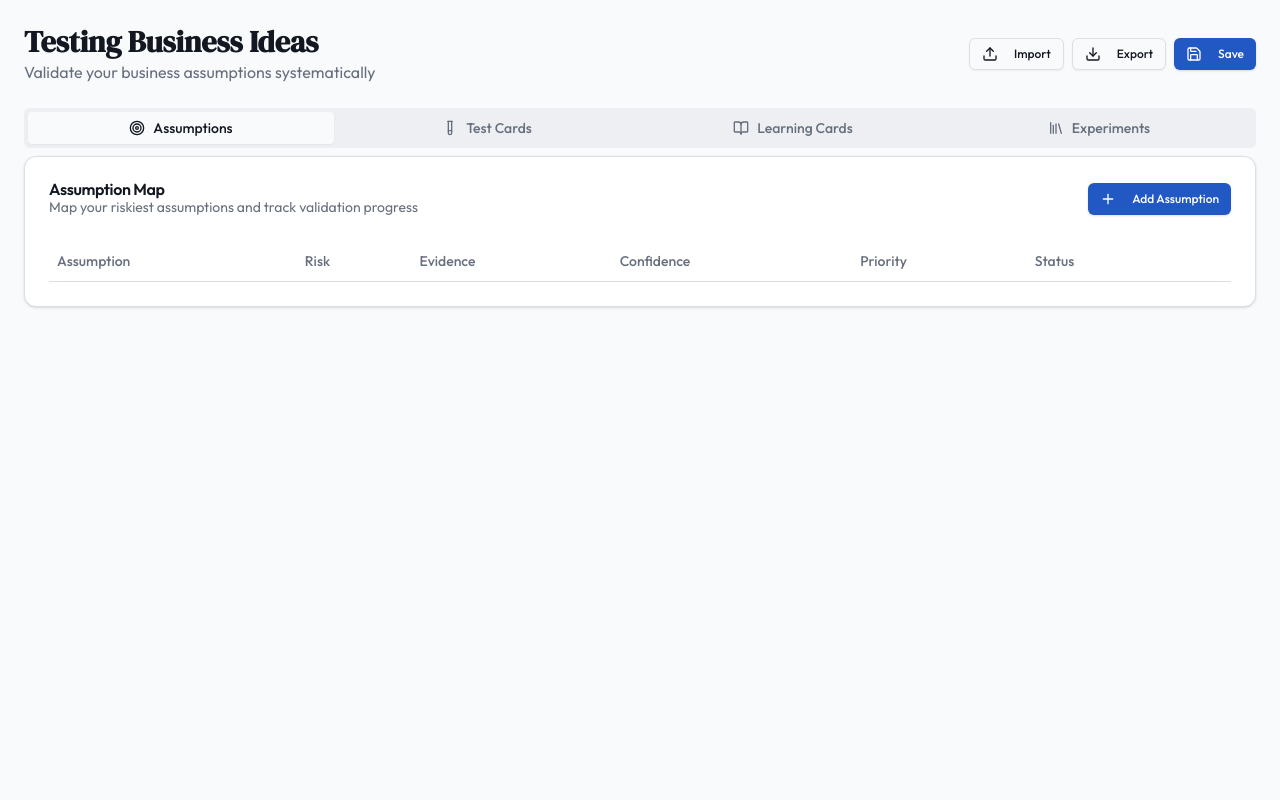
Scenario: TestingBusinessIdeasCanvas › Test Cards Management › adds new test card
What coordinates should you click on to do the following:
click the tab "Test Cards"
I would click on:
 (487, 128)
Its box is [334,112,640,144].
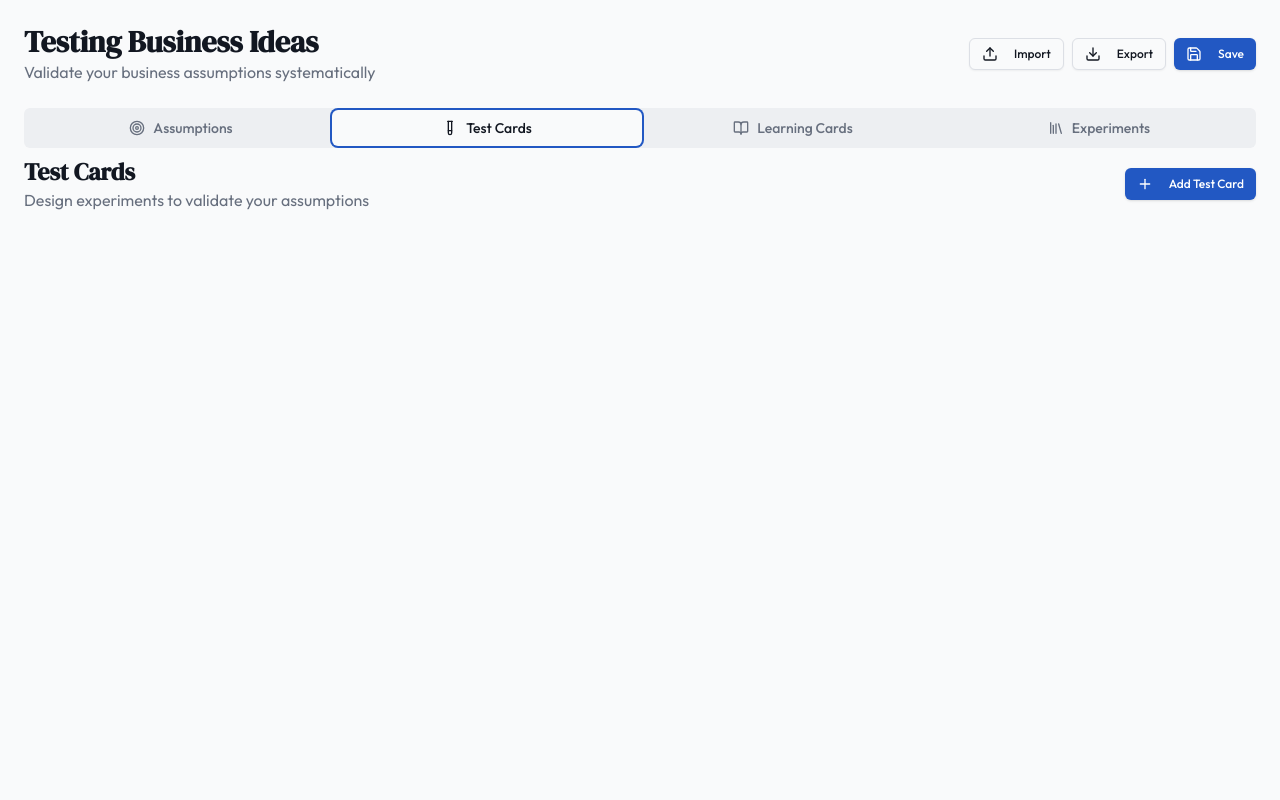
What coordinates should you click on to do the following:
click the button "Add Test Card"
I would click on:
 (1190, 184)
Its box is [1125,168,1256,200].
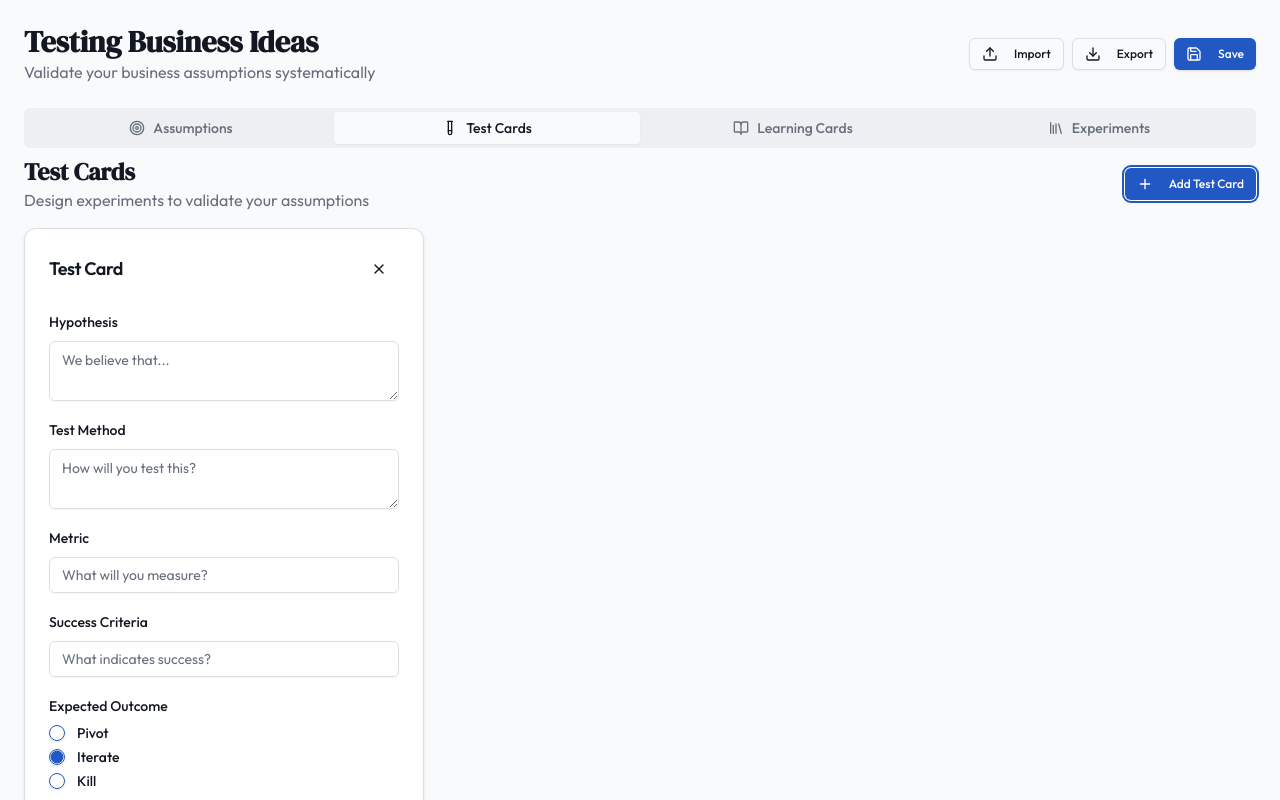
Expected: the text "Test Card" is shown, [49,255,123,283]
Expected: the text box labelled "Hypothesis" is shown, [49,341,399,401]
Expected: the text box labelled "Test Method" is shown, [49,449,399,509]
